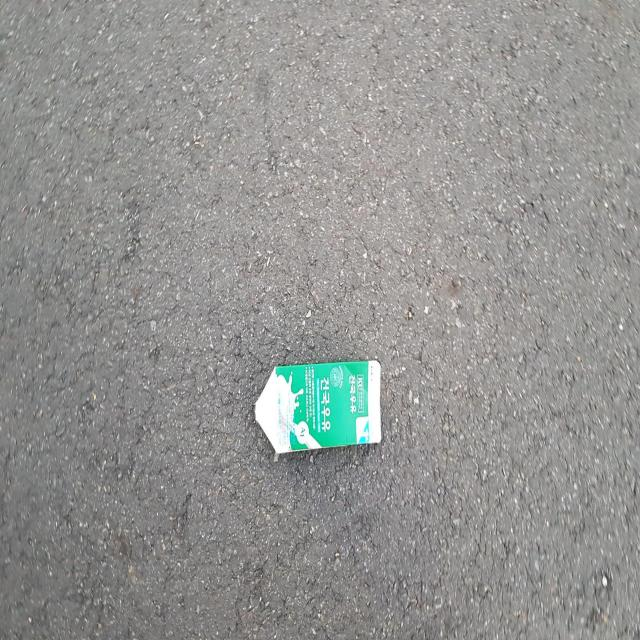paperpack: (255, 360, 382, 455)
